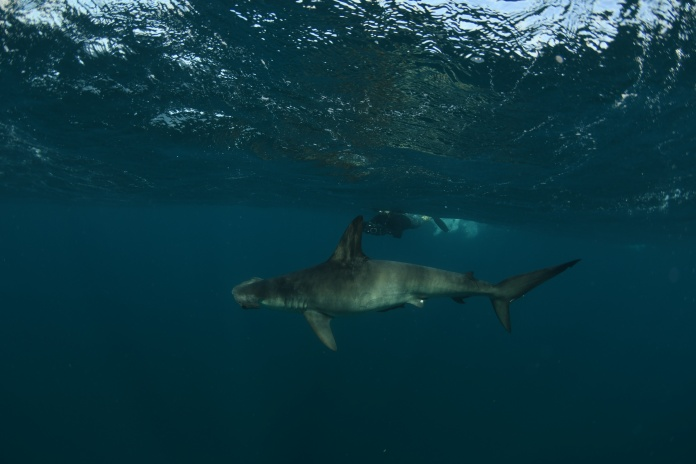Hammer: (217, 205, 593, 377)
